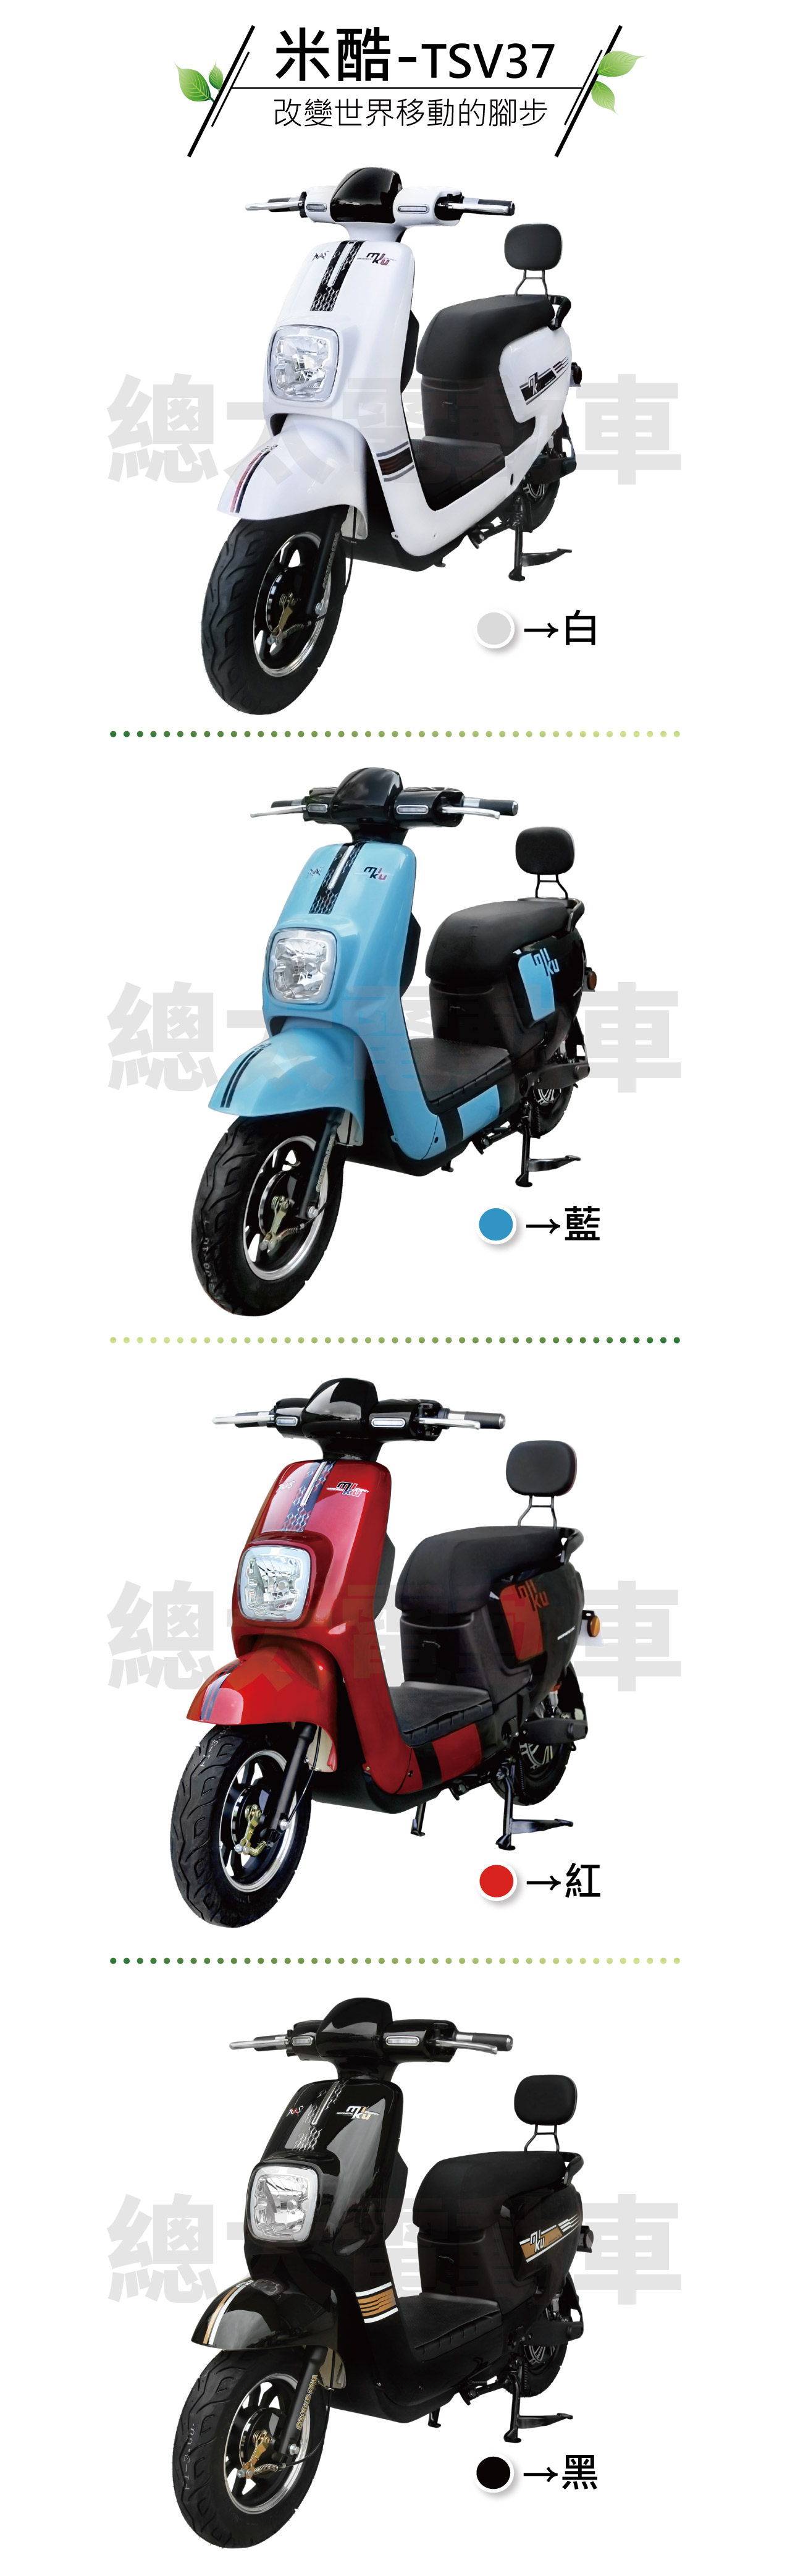电动车: (151, 1354, 652, 1965), (136, 1981, 642, 2546), (172, 135, 634, 743), (163, 767, 645, 1336)
